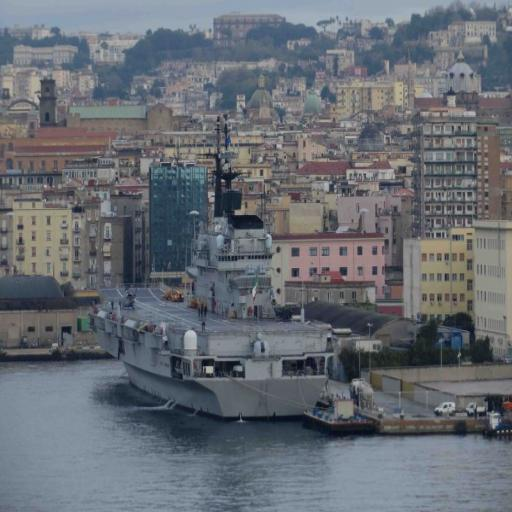Portanaves: (90, 104, 337, 425)
